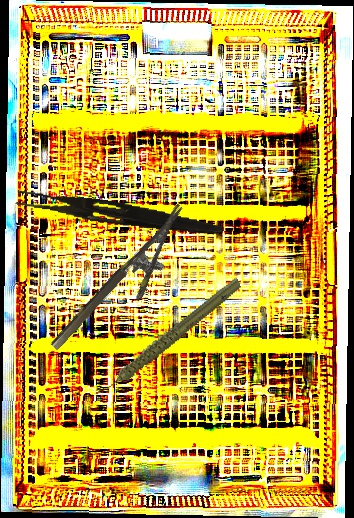Dressing Forceps: (14, 189, 225, 238)
Handpiece: (77, 276, 258, 396)
Needle Holder: (48, 203, 206, 369)
